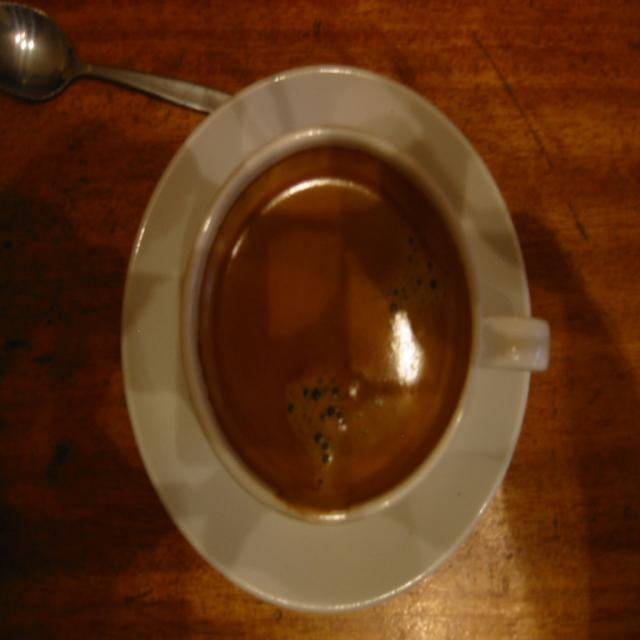Coffee: (204, 160, 460, 503)
